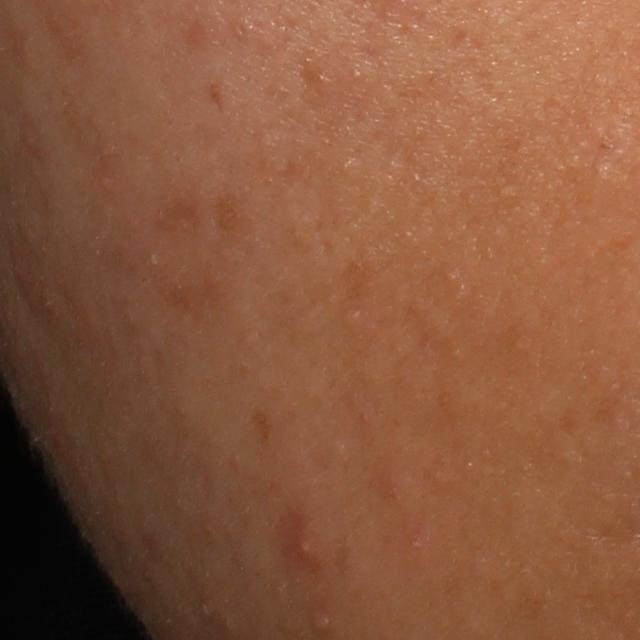papule: (289, 523, 323, 570), (309, 609, 335, 636)
